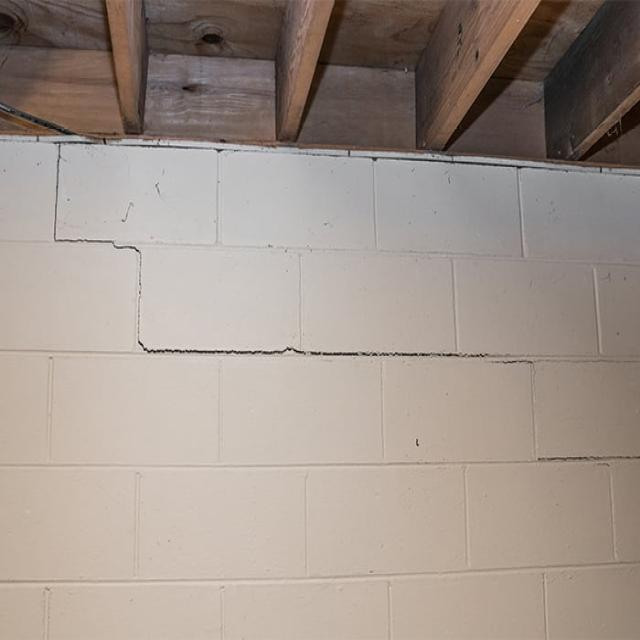Crack: (42, 130, 637, 482)
